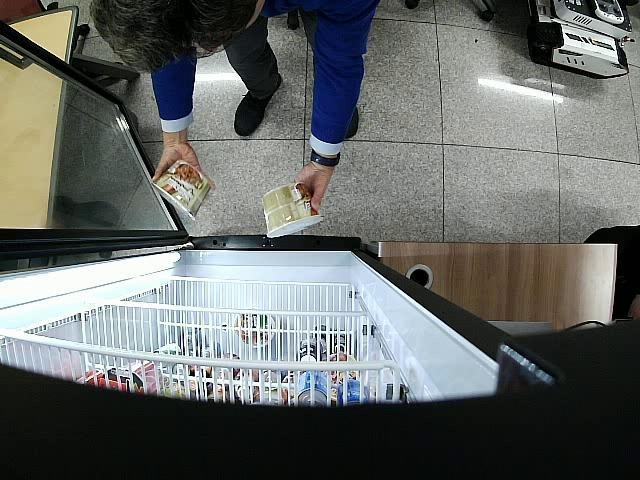03_chapagetti_L: (151, 160, 210, 220), (262, 183, 322, 238)
